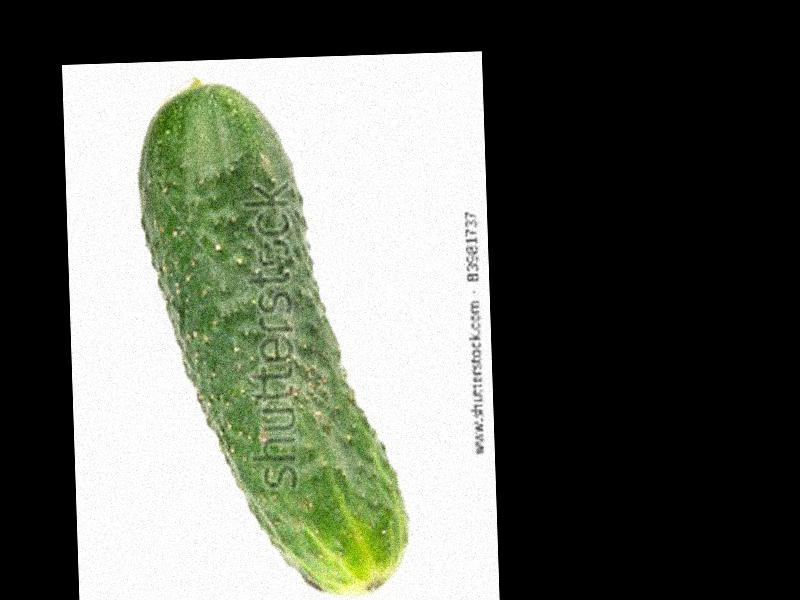Cucumber: (135, 76, 409, 599)
